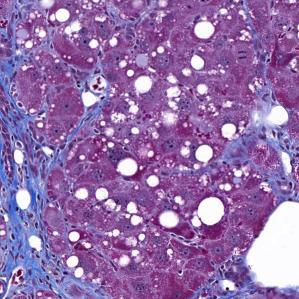fibrosis: (4, 106, 62, 288), (251, 132, 299, 202)
